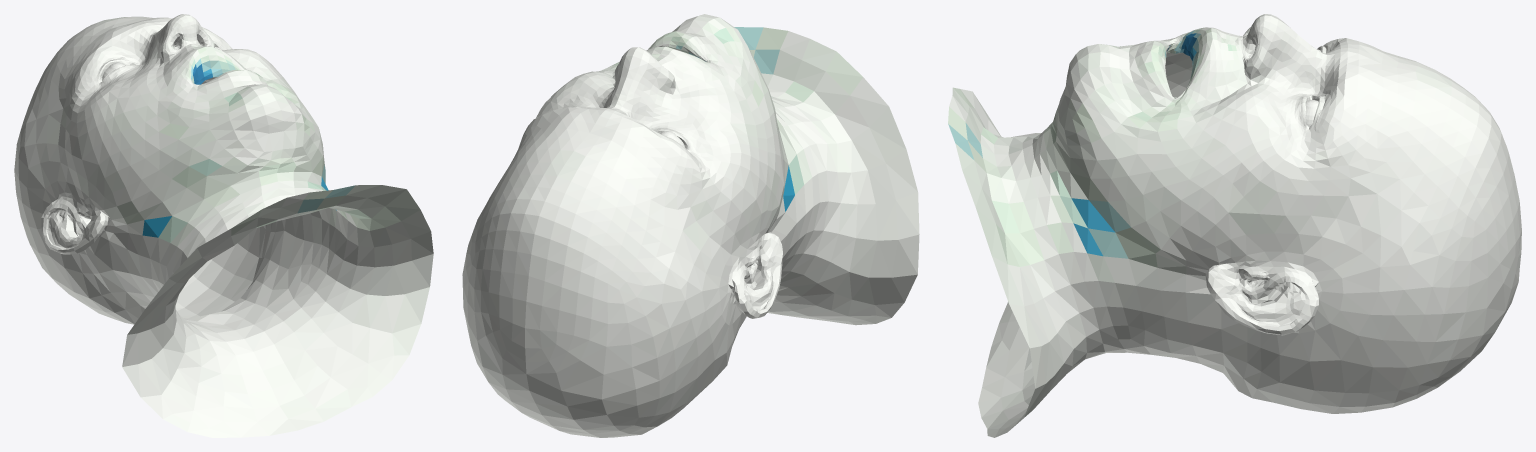
The model's file is comagsatspiralconv_1.glb.
3 renders of one model, left to right at view 1: azimuth 30°, elevation 25°; view 2: azimuth 150°, elevation 25°; view 3: azimuth 270°, elevation 25°, orthographic. The views are drawn at different scales.
Visible parts, largest first — view 1: imagetostl_mesh0; view 2: imagetostl_mesh0; view 3: imagetostl_mesh0.
Boxes of the visible parts, x1,y1,x2,y2 form: imagetostl_mesh0: (14,14,433,437); imagetostl_mesh0: (462,14,919,437); imagetostl_mesh0: (948,14,1521,437).
Bounding box in the file's own units: 237 × 238 × 316.
